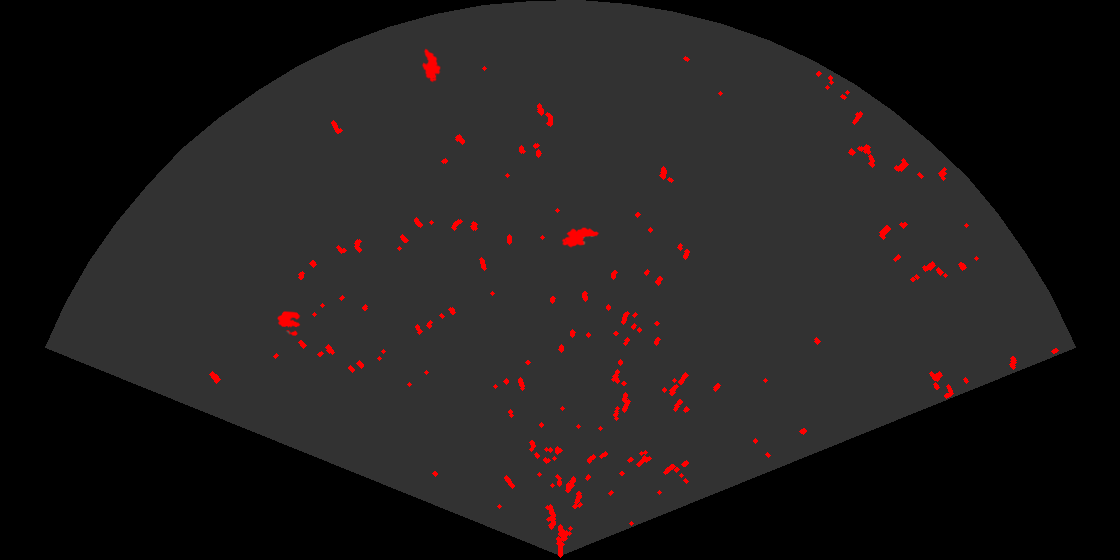AUV: (560, 226, 601, 249), (420, 47, 442, 84)
ball: (276, 310, 302, 337)
